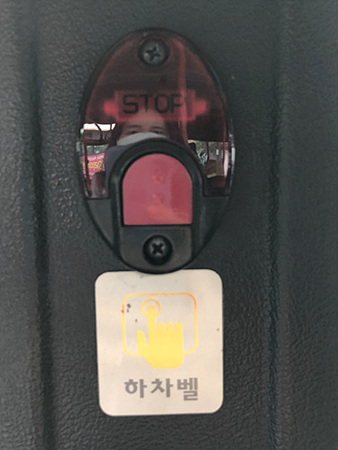bell: (75, 27, 238, 274)
